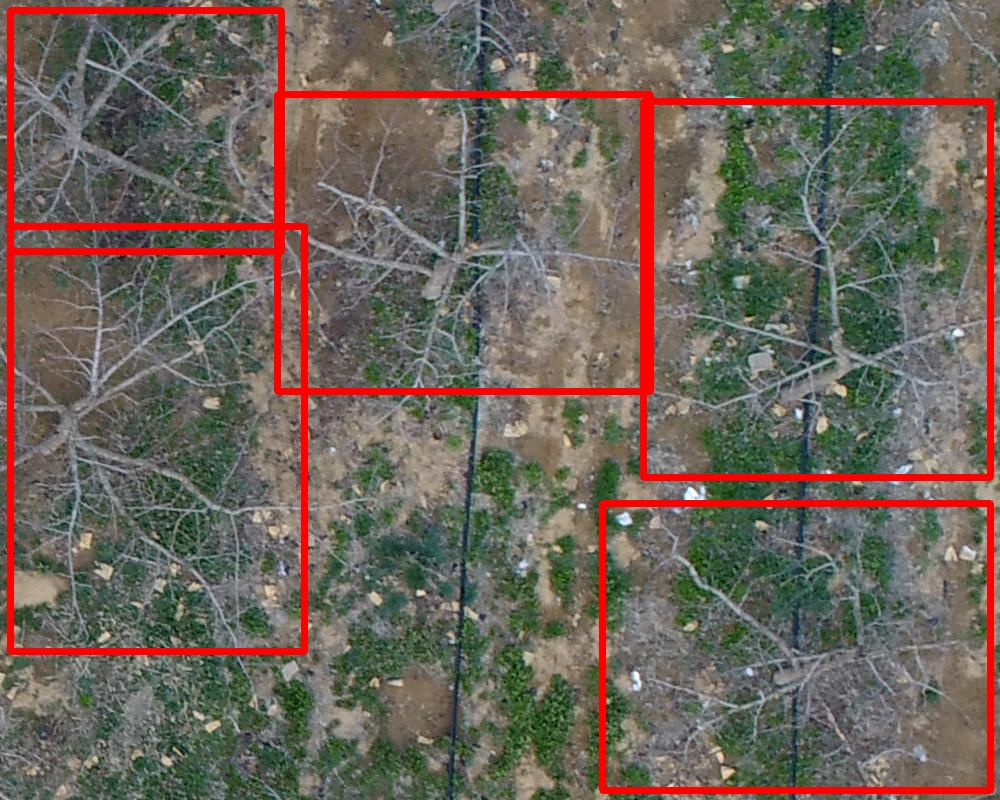apple: (643, 101, 990, 477), (10, 226, 304, 651), (602, 503, 990, 790), (277, 94, 650, 391), (10, 10, 281, 251)
